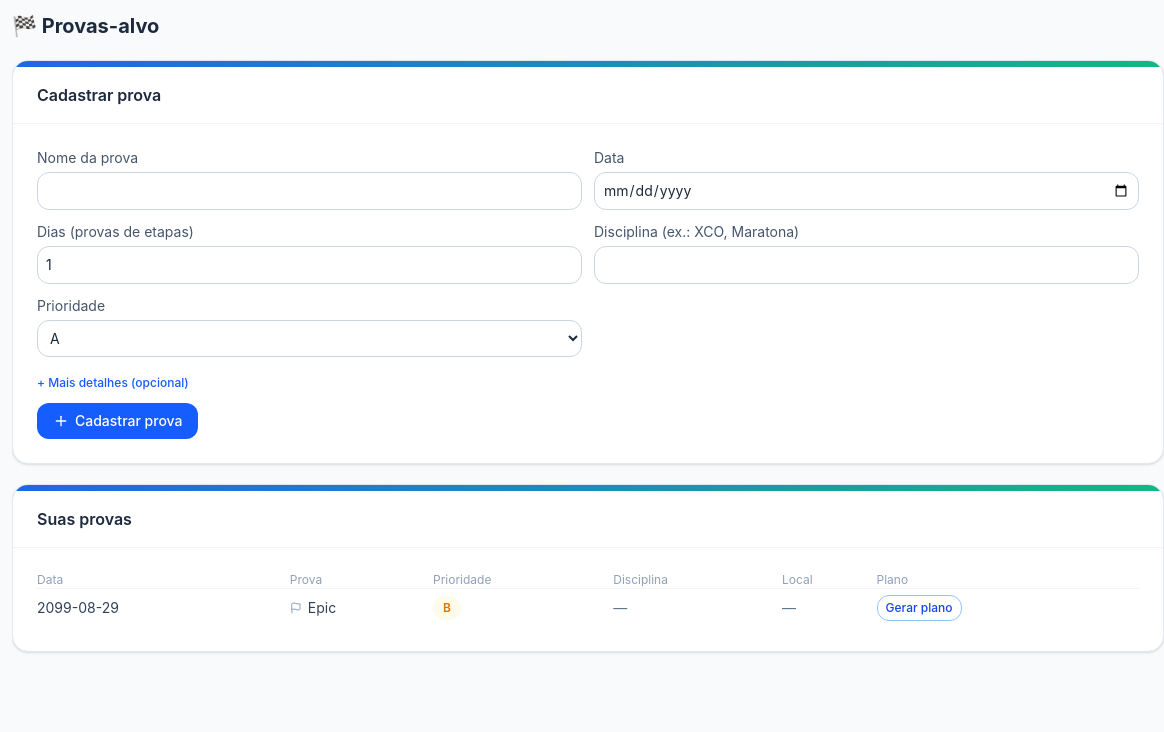
Test: ProvasView › falha no generate mostra erro na linha
Step 1. Click the button "Gerar plano" → (919, 608), box top-left (876, 595), bottom-right (962, 621)
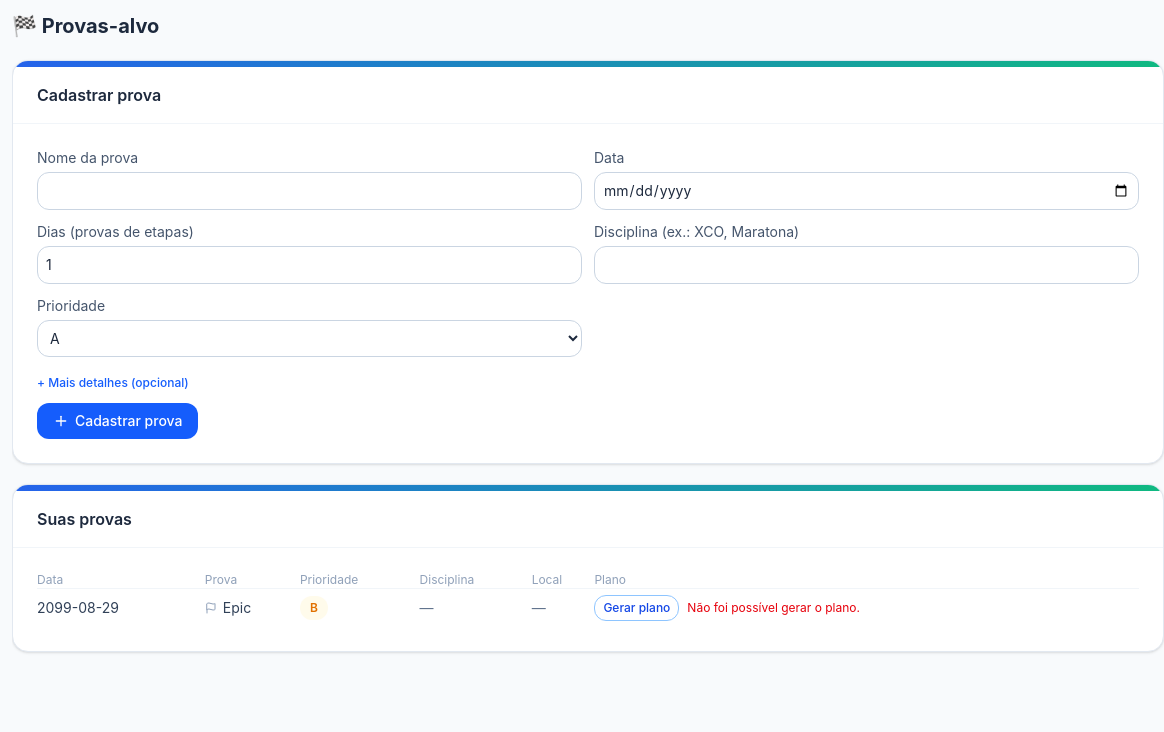
Now the text "Não foi possível gerar o plano." is shown, box top-left (687, 600), bottom-right (860, 616)
